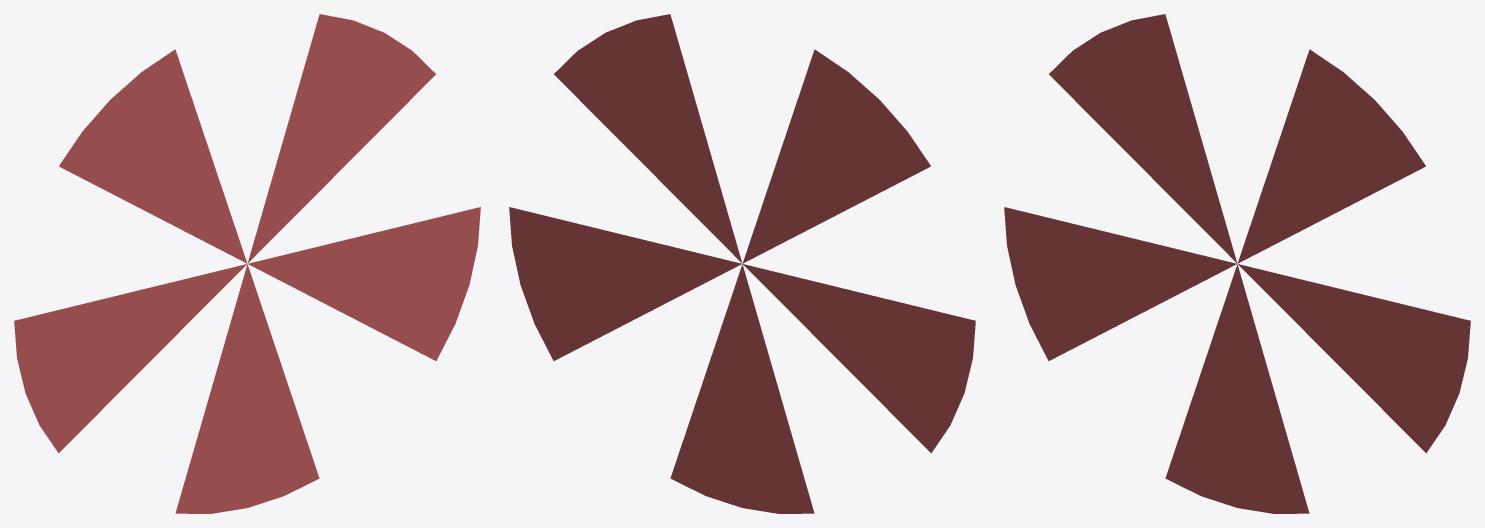
The model's file is bloodVessel - 5 triangle.fbx.
3 views of the same model, side by side, from view 1: azimuth 30°, elevation 25°; view 2: azimuth 150°, elevation 25°; view 3: azimuth 330°, elevation 25° (orthographic).
Parts seen in each view (by area): view 1: Disc; view 2: Disc; view 3: Disc.
Part boxes in pixels (x1,y1,x2,y2): Disc: (14, 14, 480, 513); Disc: (509, 14, 975, 513); Disc: (1004, 14, 1470, 513).
Bounding box in the file's own units: 500 × 488 × 1.38e-13.
